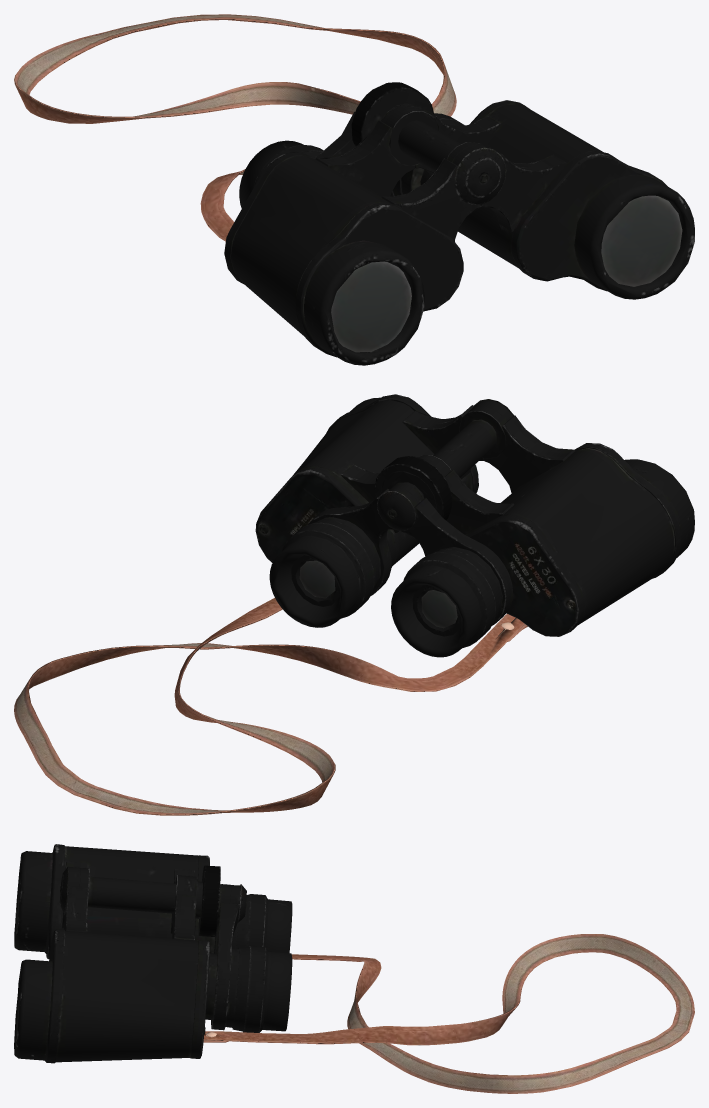
File: binoculars.glb
3 views of the same model, one above another, from view 1: azimuth 30°, elevation 25°; view 2: azimuth 150°, elevation 25°; view 3: azimuth 270°, elevation 25° (orthographic). The views are drawn at different scales.
Parts seen in each view (by area): view 1: binoculars_left, binoculars_strap; view 2: binoculars_left, binoculars_strap; view 3: binoculars_left, binoculars_strap.
Boxes of the visible parts, x1,y1,x2,y2 form: binoculars_left: [224, 82, 694, 365]; binoculars_strap: [14, 14, 456, 241]; binoculars_left: [255, 394, 694, 657]; binoculars_strap: [14, 598, 527, 815]; binoculars_left: [14, 844, 292, 1063]; binoculars_strap: [203, 934, 694, 1093].
Bounding box in the file's own units: 0.1669 × 0.066 × 0.2879.
Materials: 2 (2 with a texture image).
